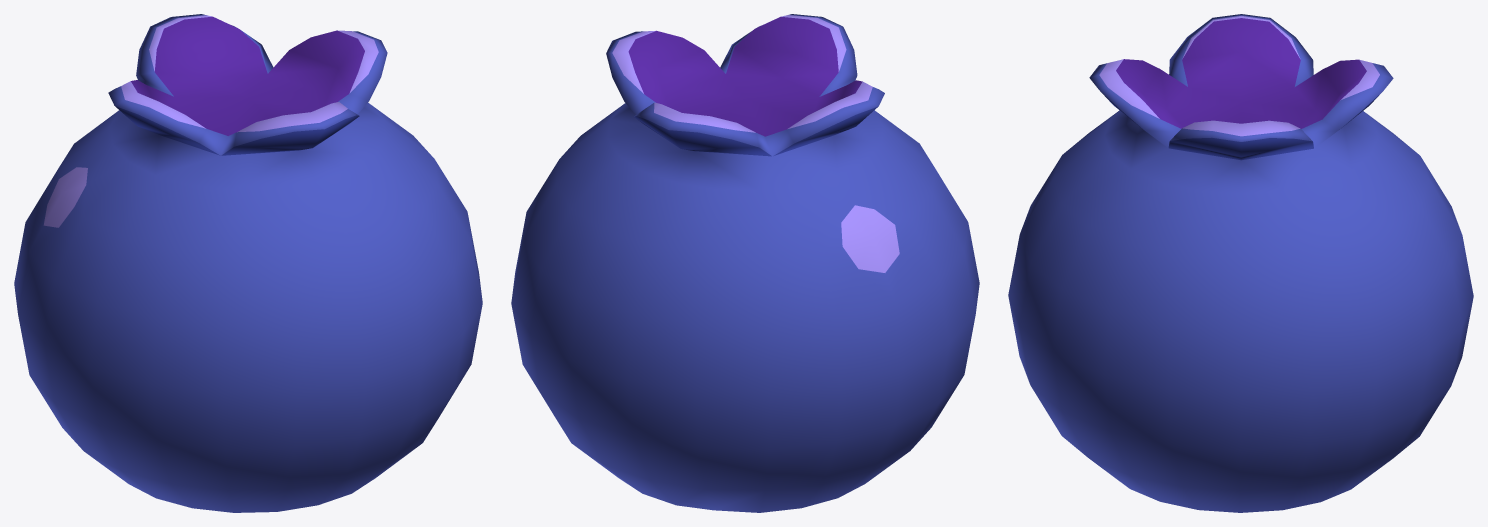
The model's file is Fx_Mesh_blueberry_parts_A.FBX.
3 views of the same model, side by side, from view 1: azimuth 30°, elevation 25°; view 2: azimuth 150°, elevation 25°; view 3: azimuth 270°, elevation 25° (orthographic).
Visible parts, largest first — view 1: Fx_Mesh_blueberry_parts_A; view 2: Fx_Mesh_blueberry_parts_A; view 3: Fx_Mesh_blueberry_parts_A.
Boxes of the visible parts, x1,y1,x2,y2 form: Fx_Mesh_blueberry_parts_A: (14,14,482,512); Fx_Mesh_blueberry_parts_A: (511,14,979,512); Fx_Mesh_blueberry_parts_A: (1008,14,1473,512).
Size of the model in its own units: 27.29 by 27.3 by 27.29.
